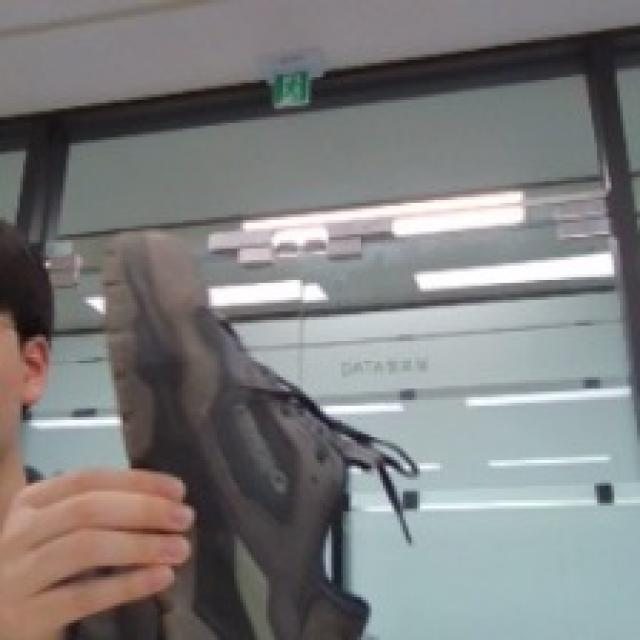shoe: (100, 223, 429, 640)
